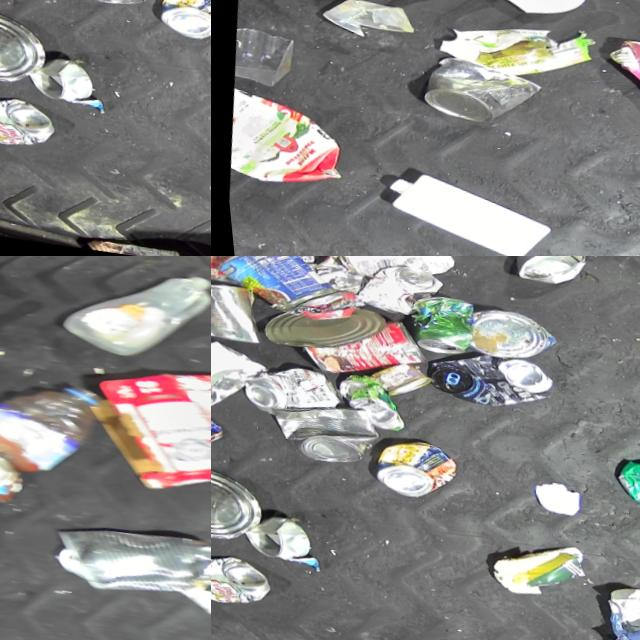can: (26, 513, 211, 606), (291, 306, 427, 386), (415, 52, 544, 130), (419, 344, 552, 414), (257, 395, 377, 469), (211, 256, 340, 320), (255, 295, 383, 358), (233, 359, 339, 423), (362, 435, 454, 503), (347, 260, 444, 321), (462, 305, 556, 364), (401, 293, 474, 359), (326, 372, 403, 432), (211, 463, 261, 546), (14, 53, 86, 105), (230, 511, 302, 563), (0, 5, 45, 88), (211, 277, 263, 345), (211, 548, 265, 610), (0, 90, 49, 152), (360, 358, 428, 402), (146, 0, 211, 44), (509, 256, 591, 290), (604, 456, 640, 514), (72, 236, 173, 256), (0, 448, 26, 506), (211, 256, 252, 288), (211, 392, 224, 452), (247, 256, 315, 263)
milk_jug: (46, 256, 211, 367), (370, 167, 552, 256)
non_white_jug: (217, 84, 354, 192)
plastic_bottle: (0, 370, 98, 476)
